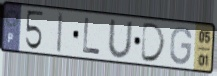5: (24, 9, 45, 51)
D: (139, 21, 168, 64)
G: (169, 25, 194, 67)
I: (56, 12, 65, 56)
L: (82, 16, 102, 57)
U: (106, 18, 134, 60)
